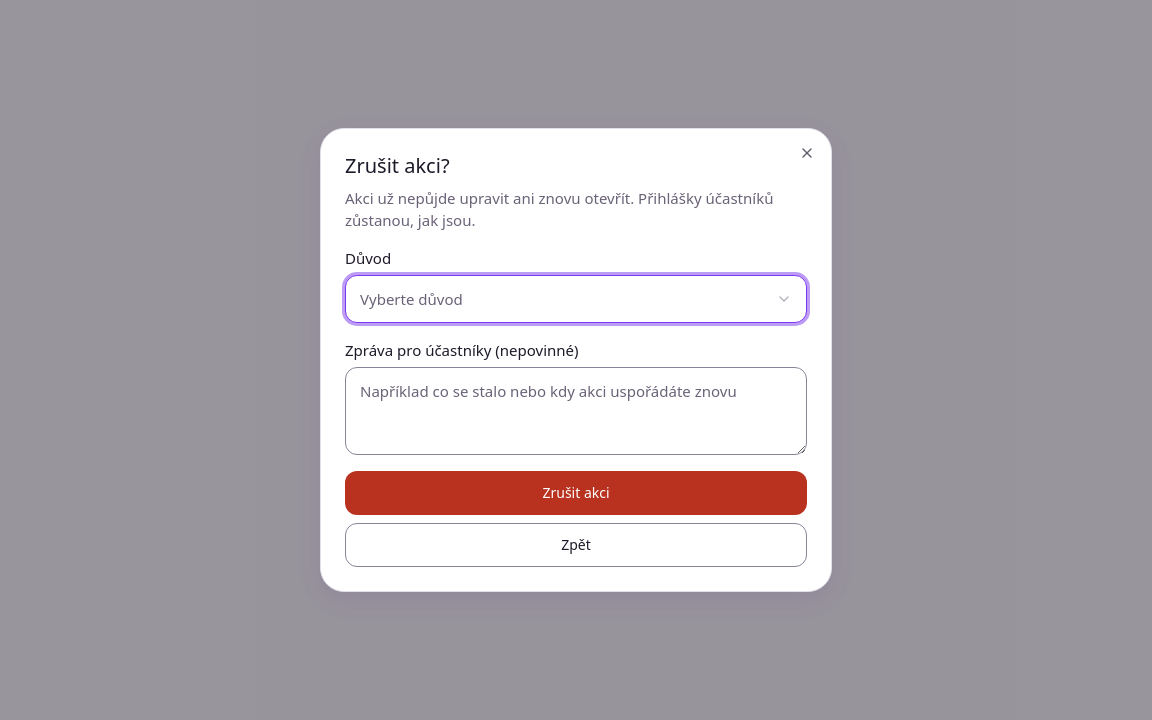
Test: CancelEventDialog › does not cancel without a reason
The image size is (1152, 720).
Step 1. Click the button "Zrušit akci" → (576, 493), box top-left (345, 471), bottom-right (807, 515)
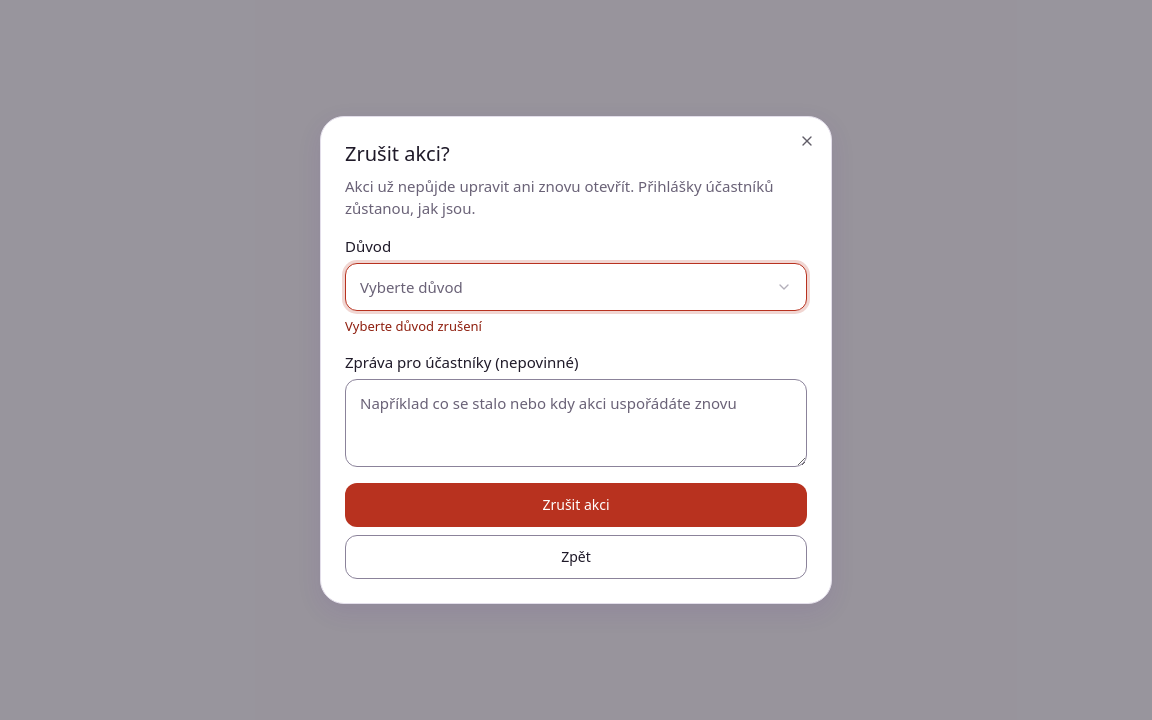
expect the text "Vyberte důvod zrušení" is shown: met, box top-left (345, 317), bottom-right (482, 335)
